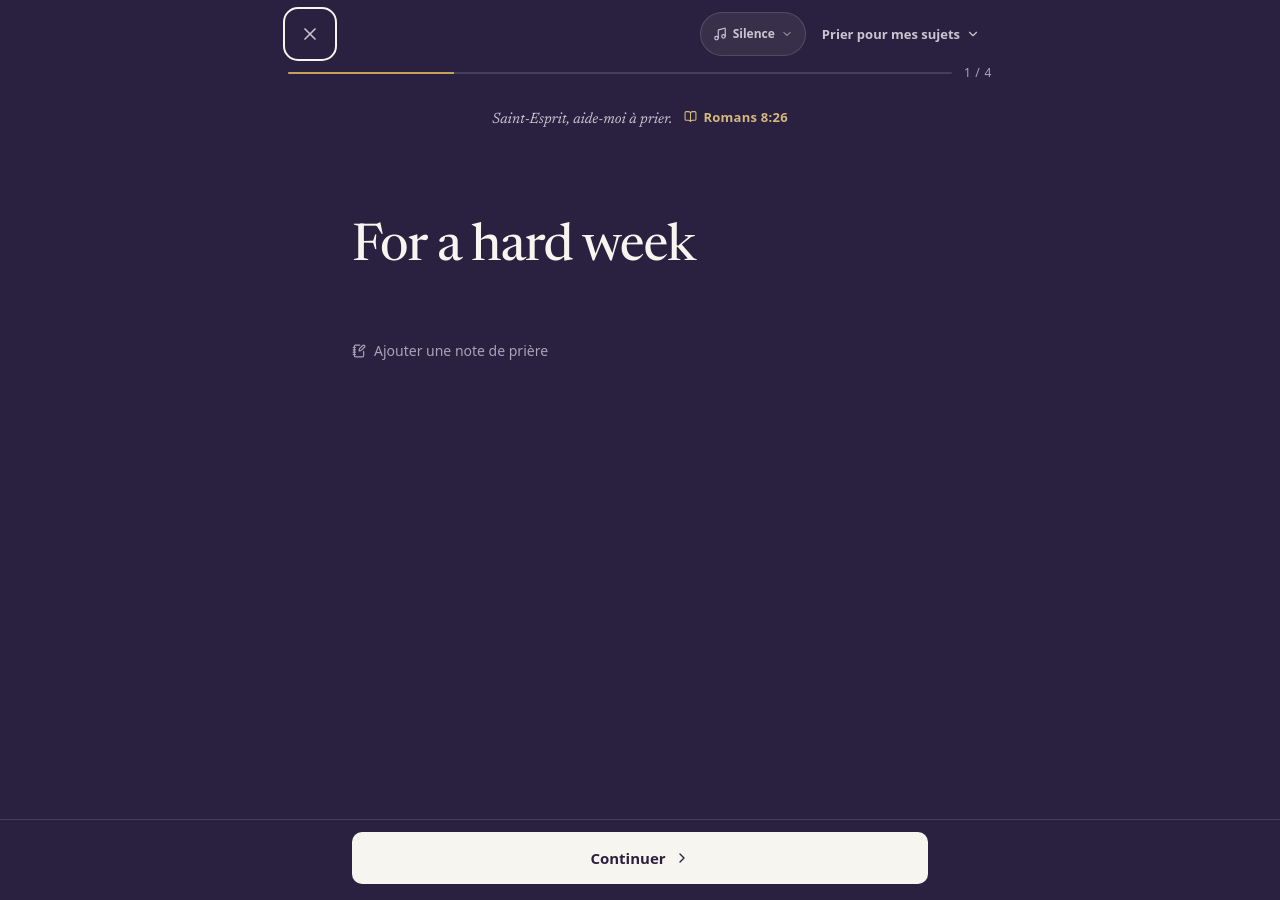
Test: PrayerSession — Pray through my altar › keeps the order a walk began with — a change after the first step applies next time
The width and height of the screenshot is (1280, 900).
Click the button "Continuer" at (640, 858), box [352,832,928,884]
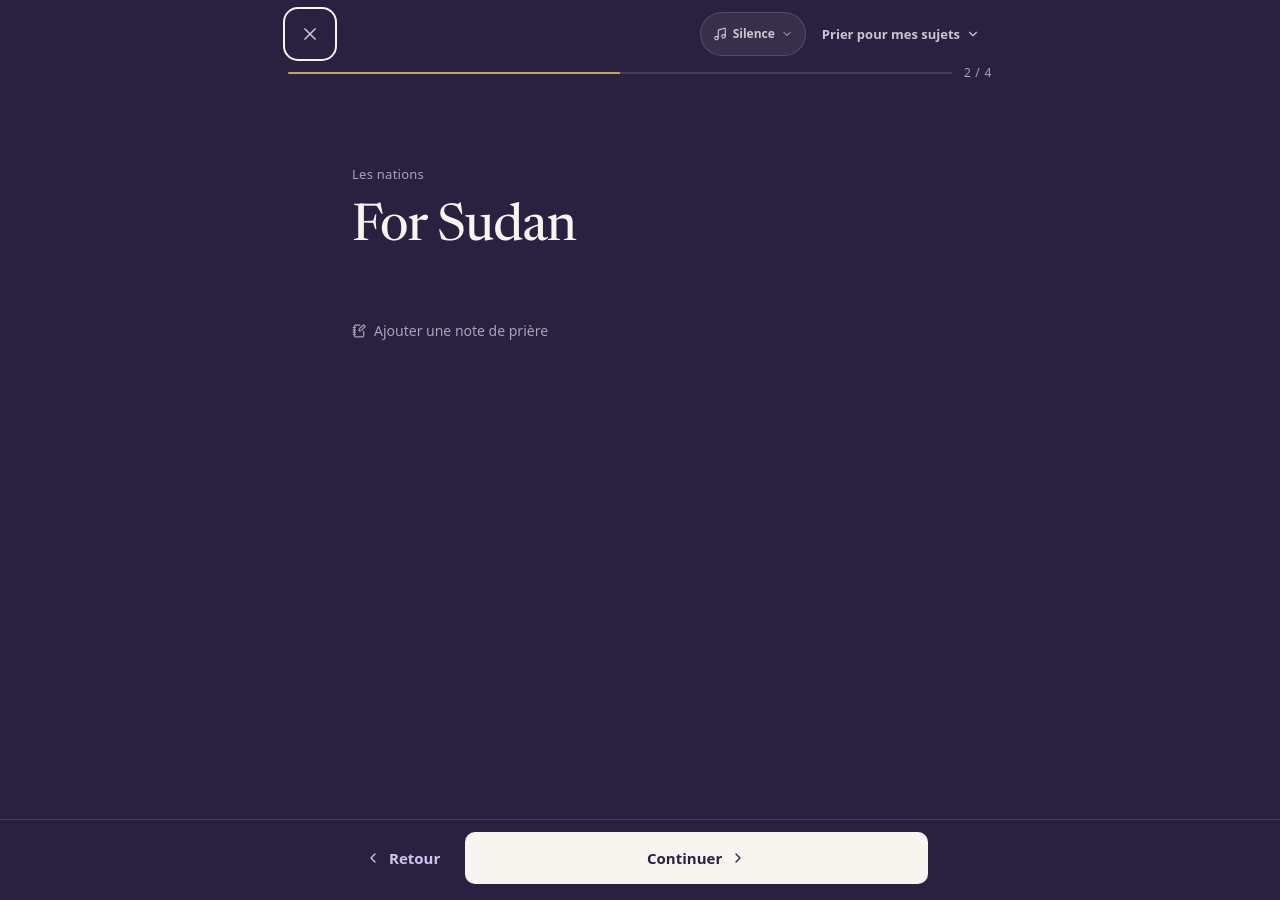
Click the button titled "Format de prière" at (901, 34), box [810,12,992,56]
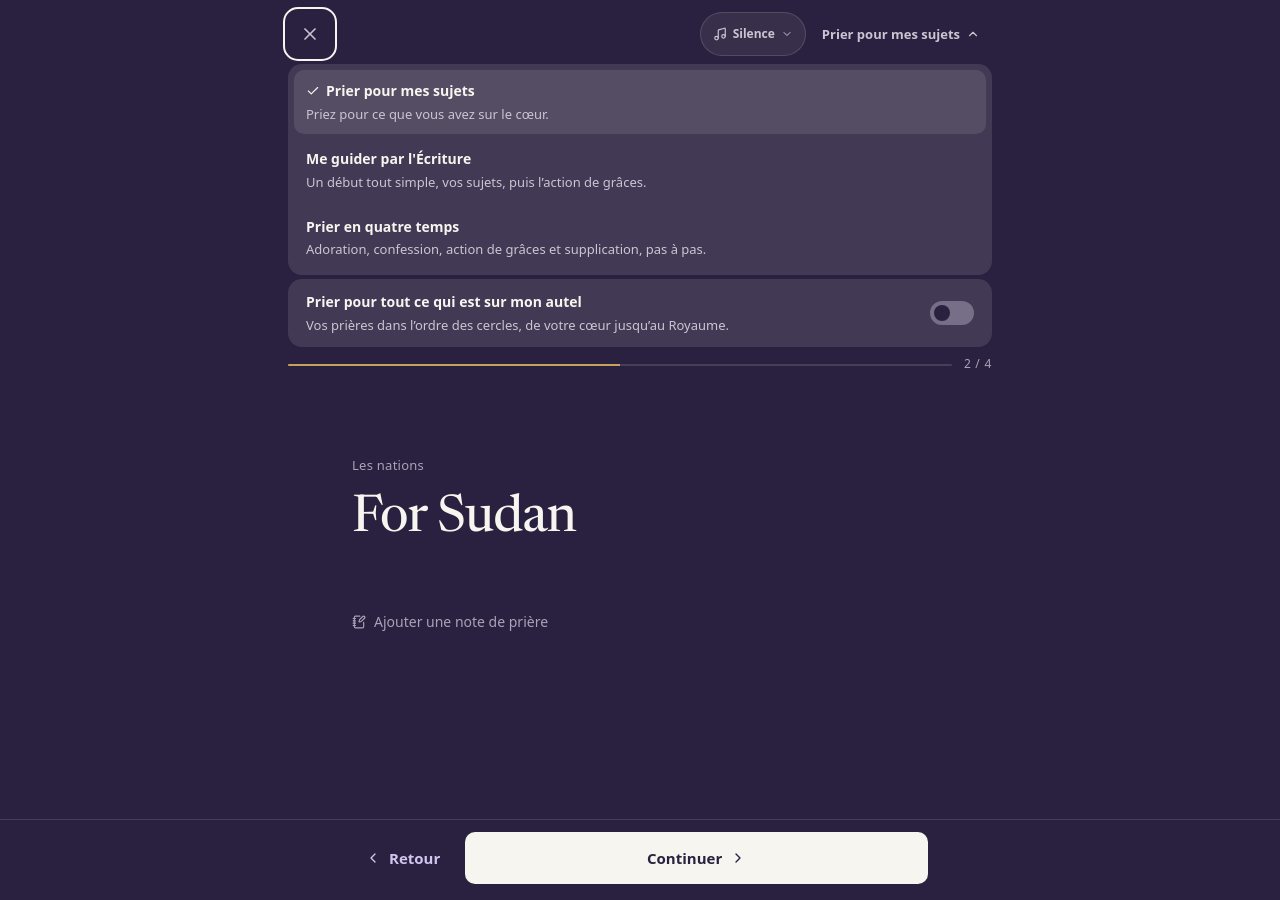
Click the switch named "Prier pour tout ce qui est sur mon autel" at (952, 313), box [918,289,986,337]
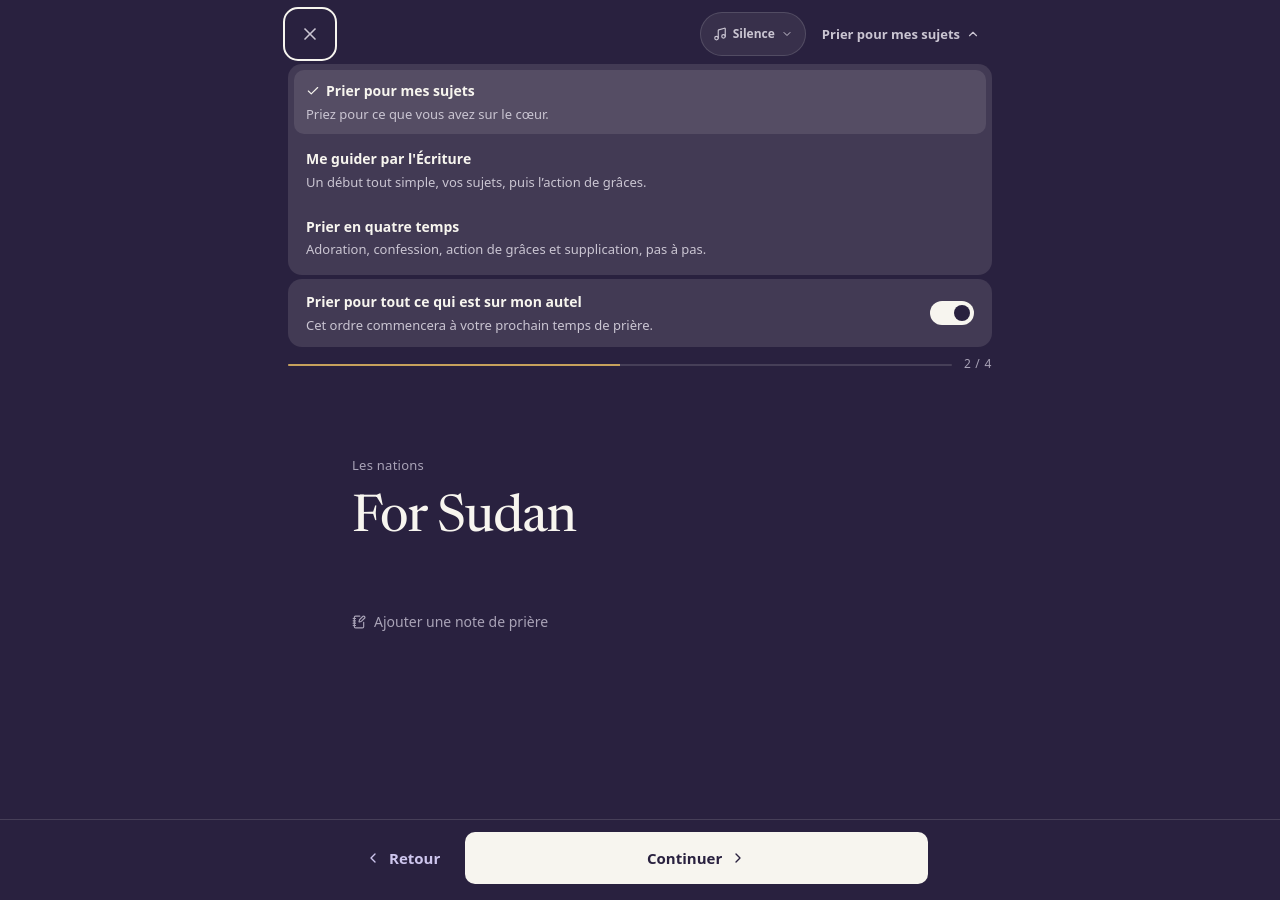
Expected: the heading "For Sudan" is shown, [352,493,576,545]
Expected: the text "Cet ordre commencera à votre prochain temps de prière." is shown, [306,315,653,335]
